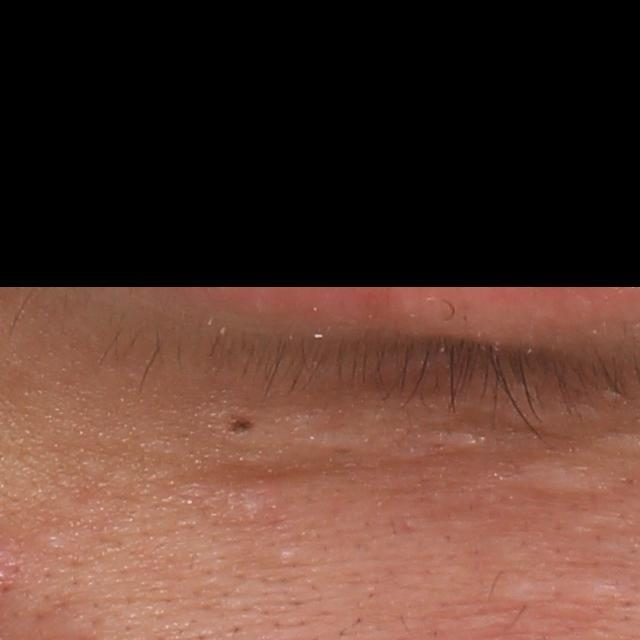comedo: (278, 548, 294, 566)
hypertrophic_scar: (495, 457, 626, 498), (280, 411, 381, 462), (382, 432, 493, 463), (492, 576, 549, 606)
nevus: (217, 411, 259, 441)
